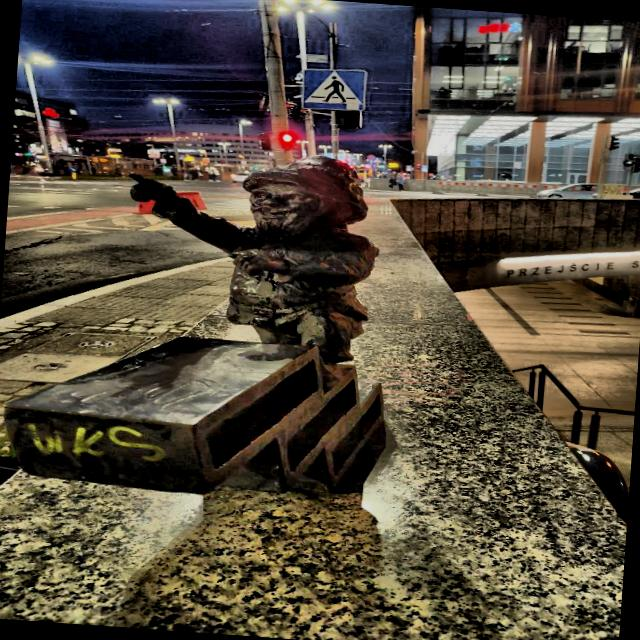Elementek: (4, 159, 382, 493)
